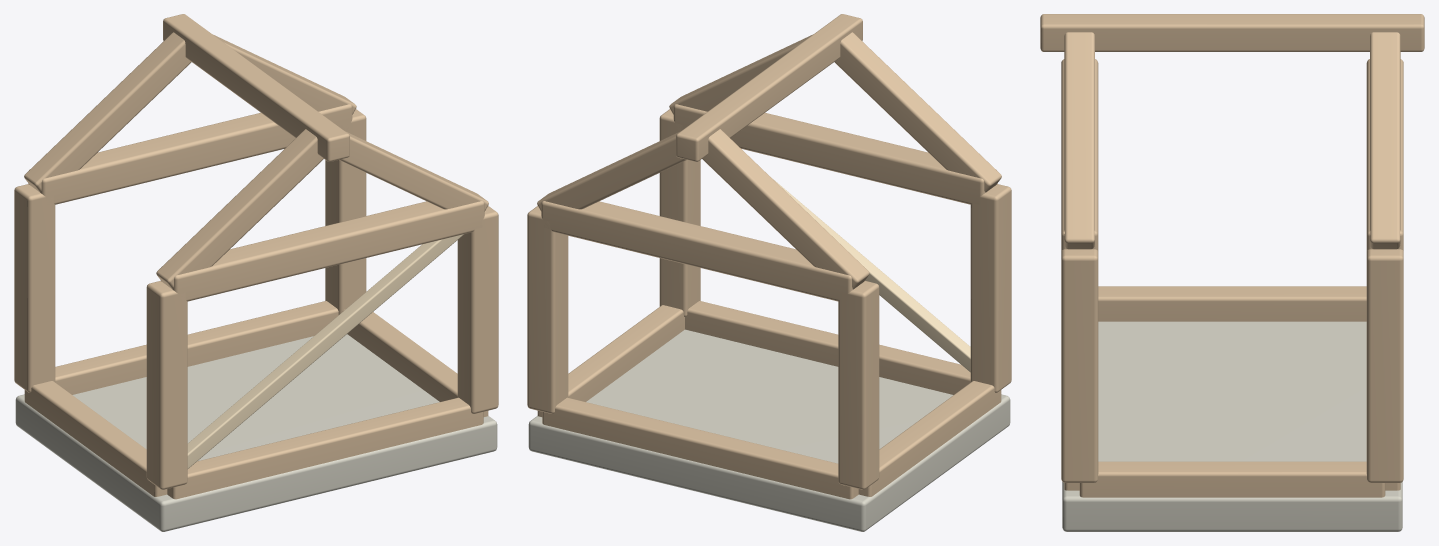
Rendered from chicken-coop-frame.glb.
3 views of the same model, side by side, from view 1: azimuth 30°, elevation 25°; view 2: azimuth 150°, elevation 25°; view 3: azimuth 270°, elevation 25° (orthographic). The views are drawn at different scales.
Visible parts, largest first — view 1: Rounded stone footing.025, Eave beam.030, Eave beam.031, Sill beam.100, Corner post.072, Corner post.073, Corner post.074, Sill beam.101, Ridge beam.015, Temporary brace.005, Gable rafter.062, Gable rafter.060 (+5 smaller); view 2: Rounded stone footing.025, Eave beam.031, Eave beam.030, Sill beam.101, Corner post.073, Corner post.072, Corner post.075, Sill beam.100, Ridge beam.015, Gable rafter.060, Gable rafter.062, Sill beam.102 (+5 smaller); view 3: Rounded stone footing.025, Ridge beam.015, Sill beam.103, Sill beam.102, Corner post.074, Corner post.075, Gable rafter.061, Gable rafter.063, Eave beam.030, Eave beam.031.
Part boxes in pixels (left/top/right/bottom): Rounded stone footing.025: left=15, top=334, right=497, bottom=531; Eave beam.030: left=160, top=201, right=484, bottom=301; Eave beam.031: left=28, top=104, right=352, bottom=204; Sill beam.100: left=167, top=397, right=483, bottom=499; Corner post.072: left=146, top=281, right=187, bottom=489; Corner post.073: left=14, top=184, right=55, bottom=392; Corner post.074: left=457, top=206, right=498, bottom=413; Sill beam.101: left=55, top=301, right=338, bottom=394; Ridge beam.015: left=163, top=14, right=349, bottom=161; Temporary brace.005: left=187, top=234, right=464, bottom=468; Gable rafter.062: left=24, top=32, right=191, bottom=192; Gable rafter.060: left=156, top=129, right=323, bottom=289; Rounded stone footing.025: left=528, top=329, right=1010, bottom=531; Eave beam.031: left=541, top=201, right=865, bottom=301; Eave beam.030: left=673, top=104, right=997, bottom=204; Sill beam.101: left=542, top=397, right=858, bottom=499; Corner post.073: left=838, top=281, right=879, bottom=489; Corner post.072: left=970, top=184, right=1011, bottom=392; Corner post.075: left=527, top=206, right=568, bottom=413; Sill beam.100: left=685, top=301, right=970, bottom=394; Ridge beam.015: left=676, top=14, right=862, bottom=161; Gable rafter.060: left=834, top=32, right=1001, bottom=192; Gable rafter.062: left=702, top=129, right=869, bottom=289; Sill beam.102: left=858, top=381, right=1001, bottom=496; Rounded stone footing.025: left=1062, top=321, right=1402, bottom=531; Ridge beam.015: left=1040, top=14, right=1424, bottom=51; Sill beam.103: left=1079, top=461, right=1385, bottom=497; Sill beam.102: left=1098, top=286, right=1366, bottom=321; Corner post.074: left=1061, top=249, right=1098, bottom=482; Corner post.075: left=1366, top=249, right=1403, bottom=482; Gable rafter.061: left=1064, top=32, right=1094, bottom=249; Gable rafter.063: left=1370, top=32, right=1400, bottom=249; Eave beam.030: left=1061, top=59, right=1098, bottom=250; Eave beam.031: left=1366, top=59, right=1403, bottom=250.
Size of the model in its own units: 2.07 by 2.12 by 1.76.
